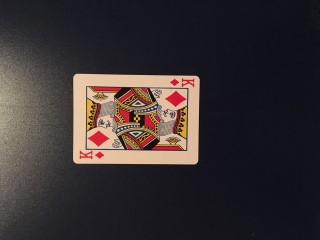KingOfDiamonds: (72, 73, 201, 164)
